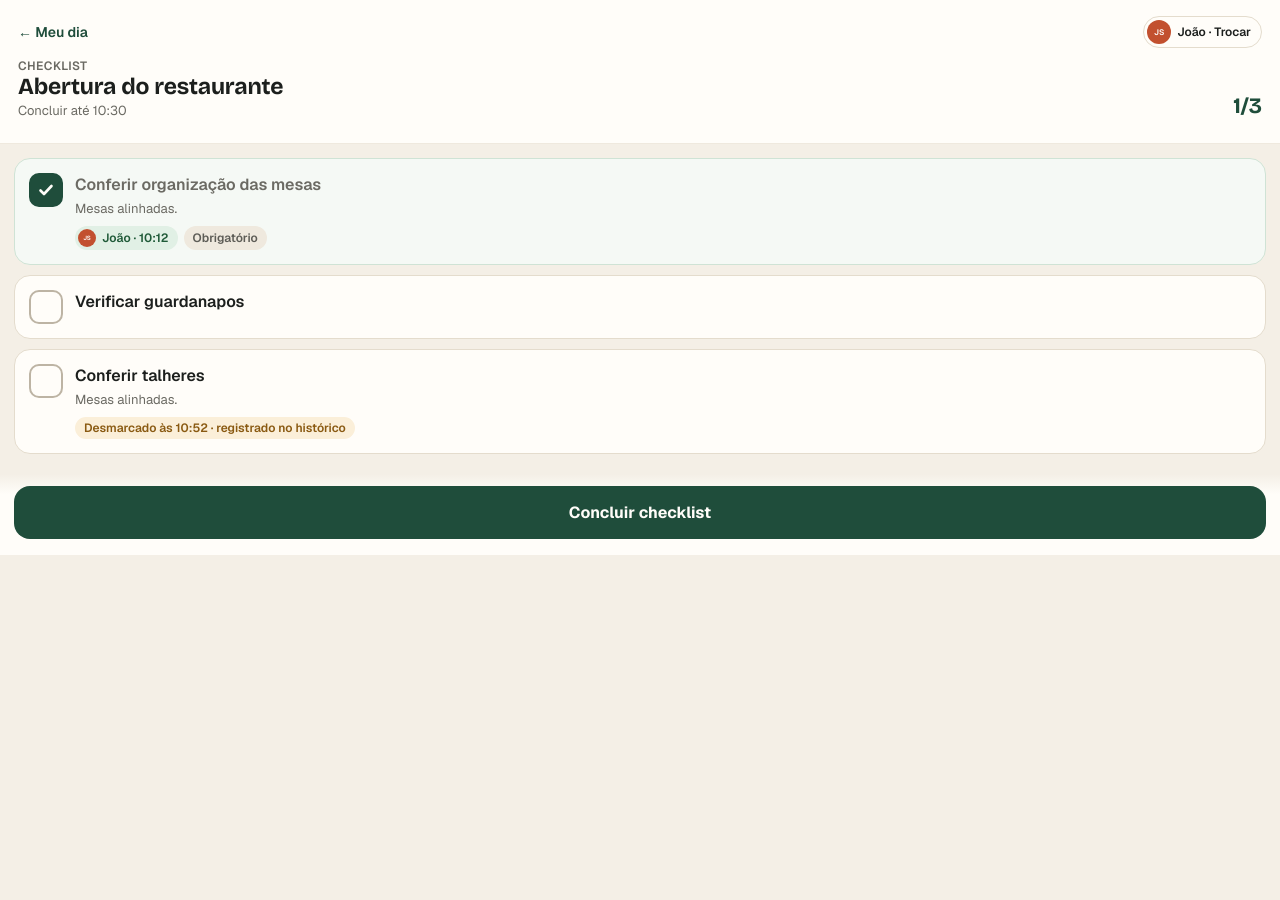
US04 — execução do checklist › erro ao marcar mostra o motivo e mantém o estado (erro)
Click the button named "Marcar Verificar guardanapos".
click(46, 307)  # box [29,290,63,324]
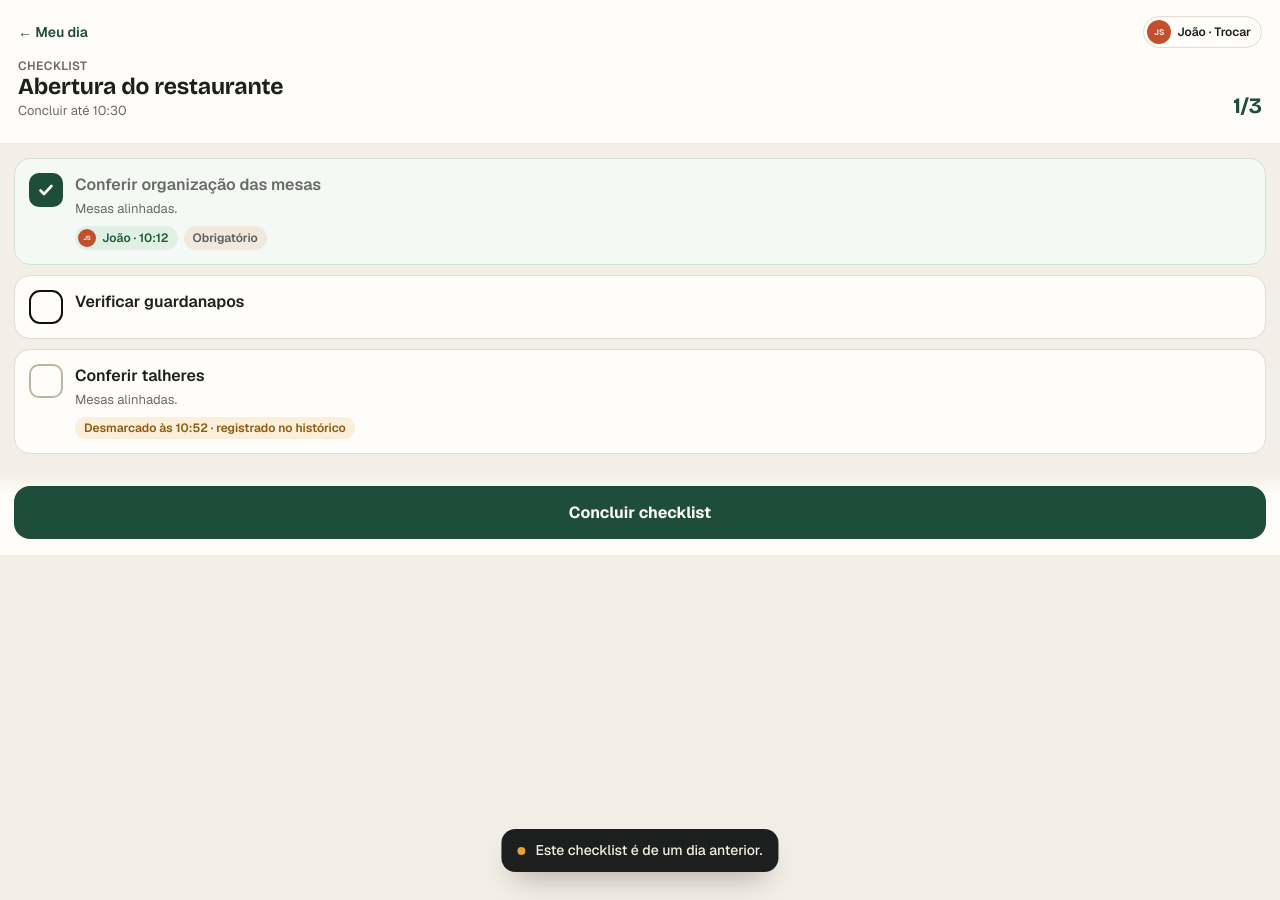
Check: the text "1/3" is shown, box [1233,93,1262,119]
Check: the message reads "Este checklist é de um dia anterior.", box [535,841,762,859]
